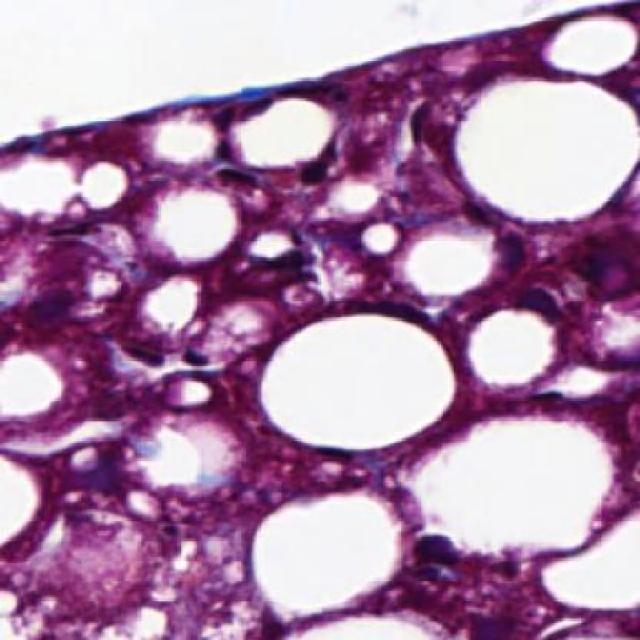inflammation: (385, 81, 459, 178), (231, 243, 335, 302), (103, 332, 224, 377), (284, 133, 356, 194)
